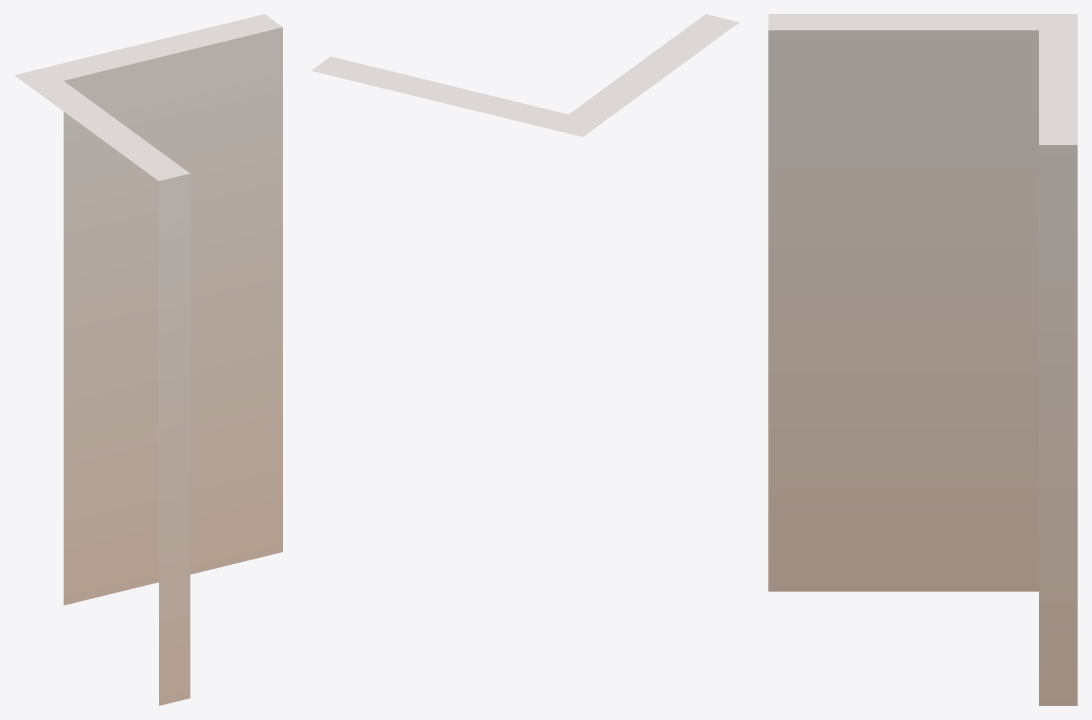
File: wall-modular-panelled-bakery-corner-outer-b.glb
The picture shows the model from 3 angles, left to right: view 1: azimuth 30°, elevation 25°; view 2: azimuth 150°, elevation 25°; view 3: azimuth 270°, elevation 25°; orthographic projection. The views are drawn at different scales.
Visible parts, largest first — view 1: wall_modular_panelled_bakery_corner_outer_B; view 2: wall_modular_panelled_bakery_corner_outer_B; view 3: wall_modular_panelled_bakery_corner_outer_B.
Boxes of the visible parts, x1=… form: wall_modular_panelled_bakery_corner_outer_B: x1=14, y1=14, x2=282, y2=705; wall_modular_panelled_bakery_corner_outer_B: x1=311, y1=14, x2=739, y2=136; wall_modular_panelled_bakery_corner_outer_B: x1=768, y1=14, x2=1077, y2=705.
Bounding box in the file's own units: 2 × 4 × 2.
Materials: 1 (1 with a texture image).
